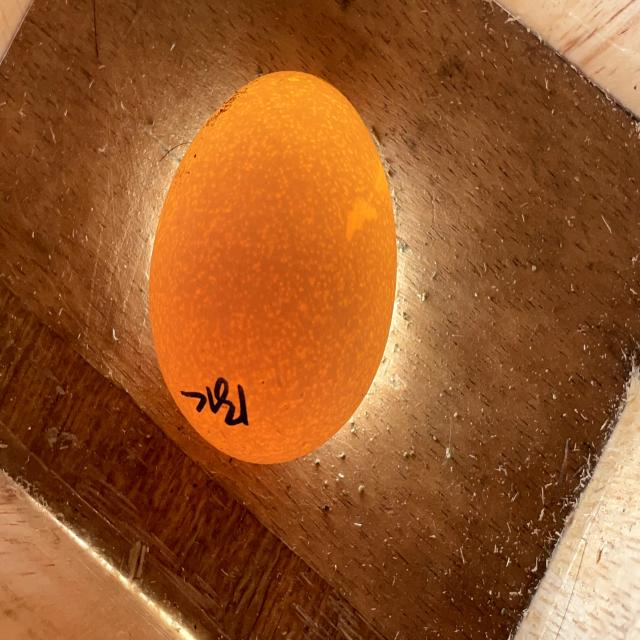infertile: (150, 72, 396, 463)
